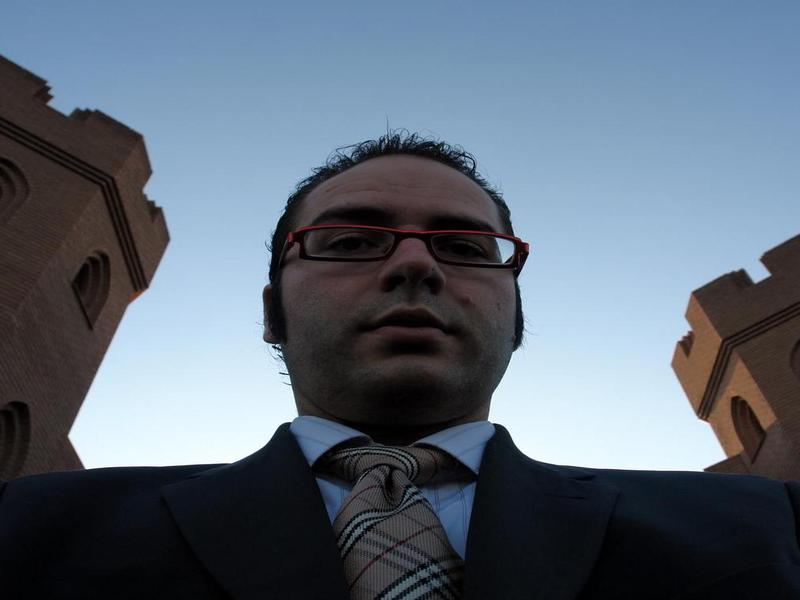person: (38, 126, 780, 600)
